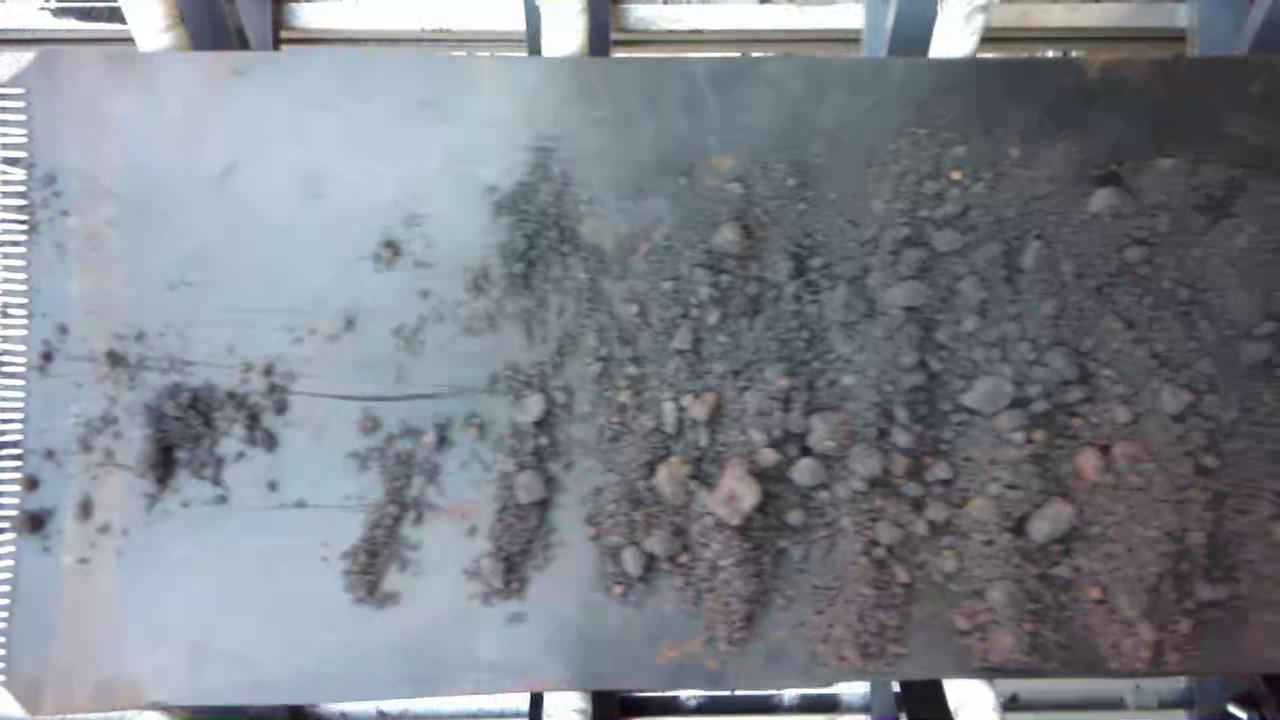conveyor: (31, 67, 1270, 653)
